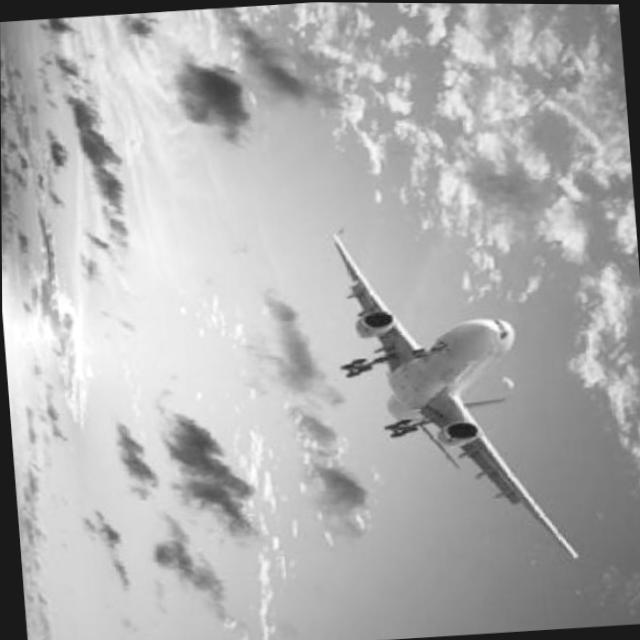aeroplane: (326, 207, 584, 578)
